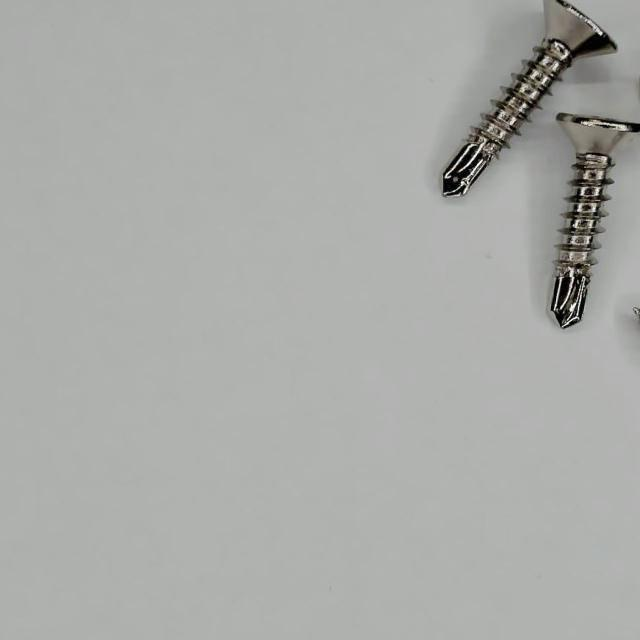Screw: (444, 2, 618, 196), (551, 112, 640, 328)
